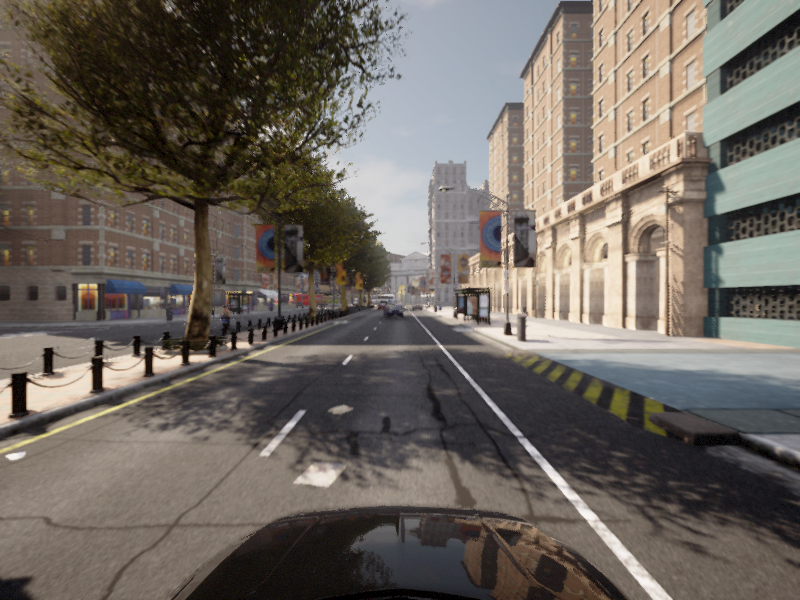vehicle: (180, 304, 209, 326), (212, 305, 236, 331), (382, 305, 404, 318)
